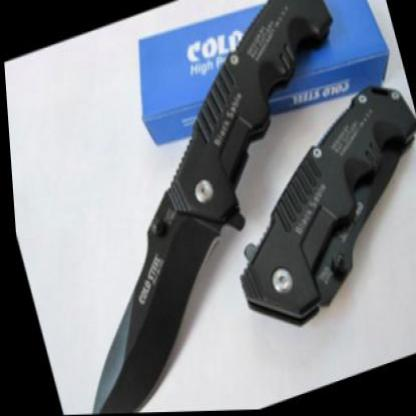knife: (22, 171, 259, 412)
